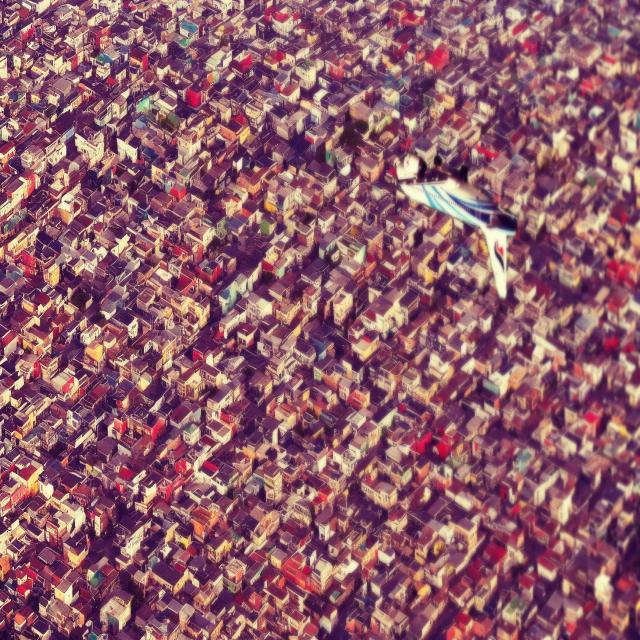airplane: (388, 151, 519, 299)
